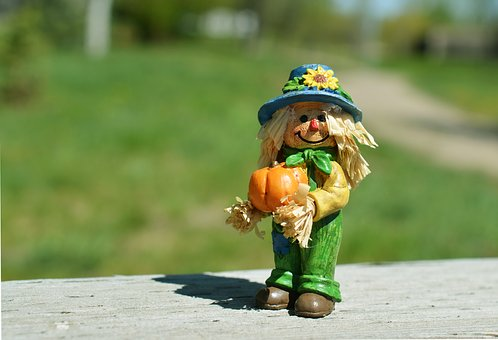person-like: (227, 57, 377, 319)
